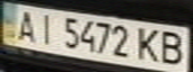2: (109, 21, 136, 60)
4: (75, 17, 96, 53)
5: (57, 15, 81, 51)
7: (93, 19, 112, 55)
A: (12, 7, 42, 43)
B: (157, 28, 190, 66)
I: (33, 10, 60, 46)
K: (133, 25, 163, 63)
